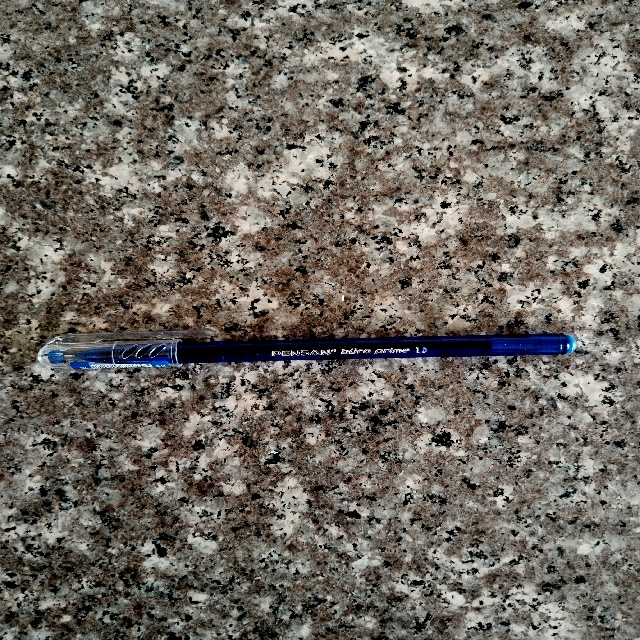pensan_mavi_tukenmez_kalem: (48, 327, 575, 370)
